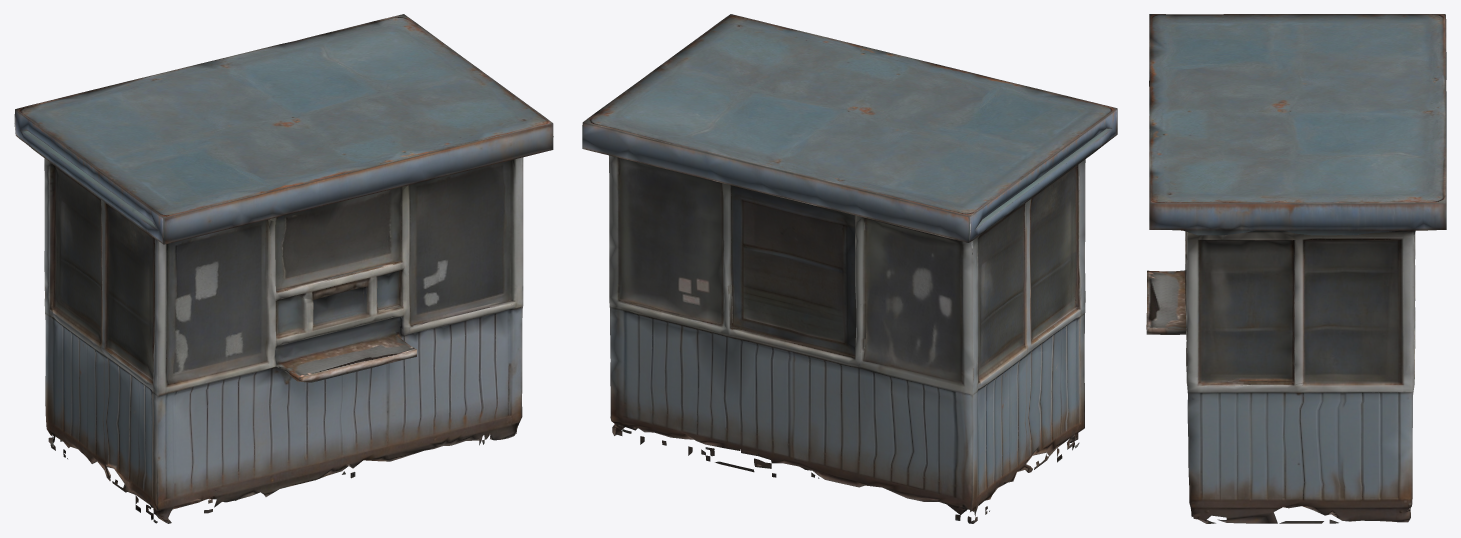
File: kiosk.glb
3 renders of one model, left to right at view 1: azimuth 30°, elevation 25°; view 2: azimuth 150°, elevation 25°; view 3: azimuth 270°, elevation 25°, orthographic.
Visible parts, largest first — view 1: Object_4; view 2: Object_4; view 3: Object_4.
Boxes of the visible parts, x1,y1,x2,y2 form: Object_4: (14, 14, 553, 523); Object_4: (582, 14, 1117, 523); Object_4: (1146, 14, 1446, 523).
Size of the model in its own units: 2.8 by 2.25 by 1.87.
1 material, 1 textured.
